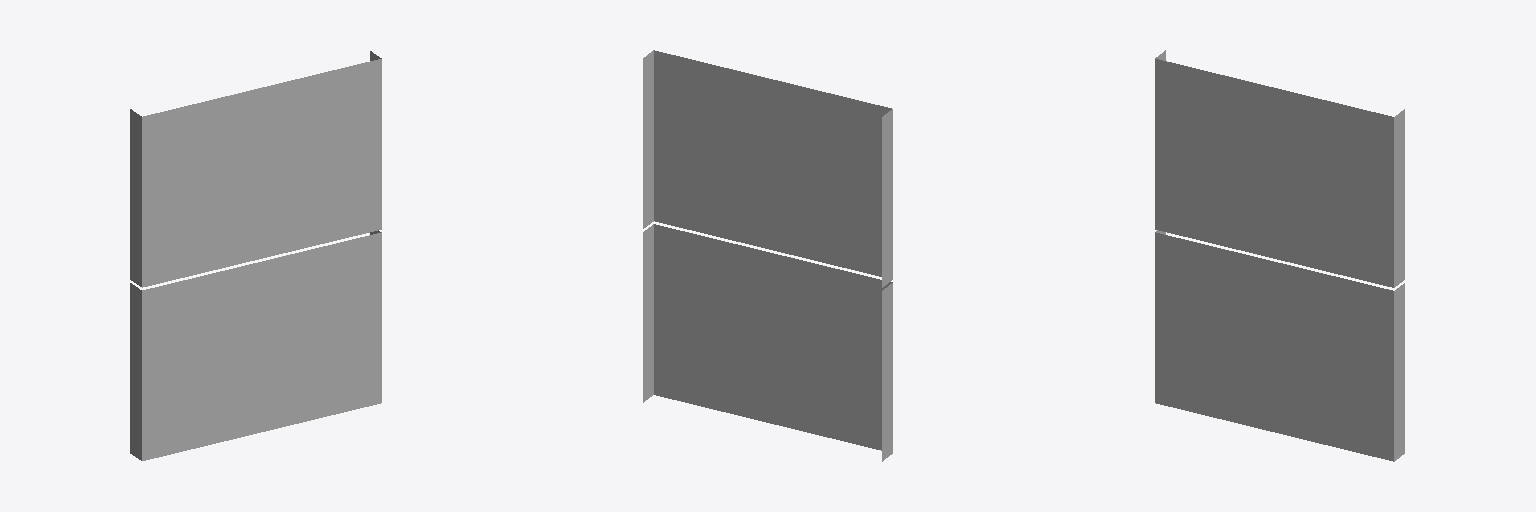
Rendered from coversnes.obj.
3 views of the same model, side by side, from view 1: azimuth 30°, elevation 25°; view 2: azimuth 150°, elevation 25°; view 3: azimuth 330°, elevation 25° (orthographic).
Visible parts, largest first — view 1: coversnes_covergb_cover.002; view 2: coversnes_covergb_cover.002; view 3: coversnes_covergb_cover.002.
Part boxes in pixels (bbox=[...]): coversnes_covergb_cover.002: bbox=[130, 51, 381, 460]; coversnes_covergb_cover.002: bbox=[643, 50, 892, 461]; coversnes_covergb_cover.002: bbox=[1155, 50, 1404, 461].
Bounding box in the file's own units: 2.26 × 3.11 × 0.1872.